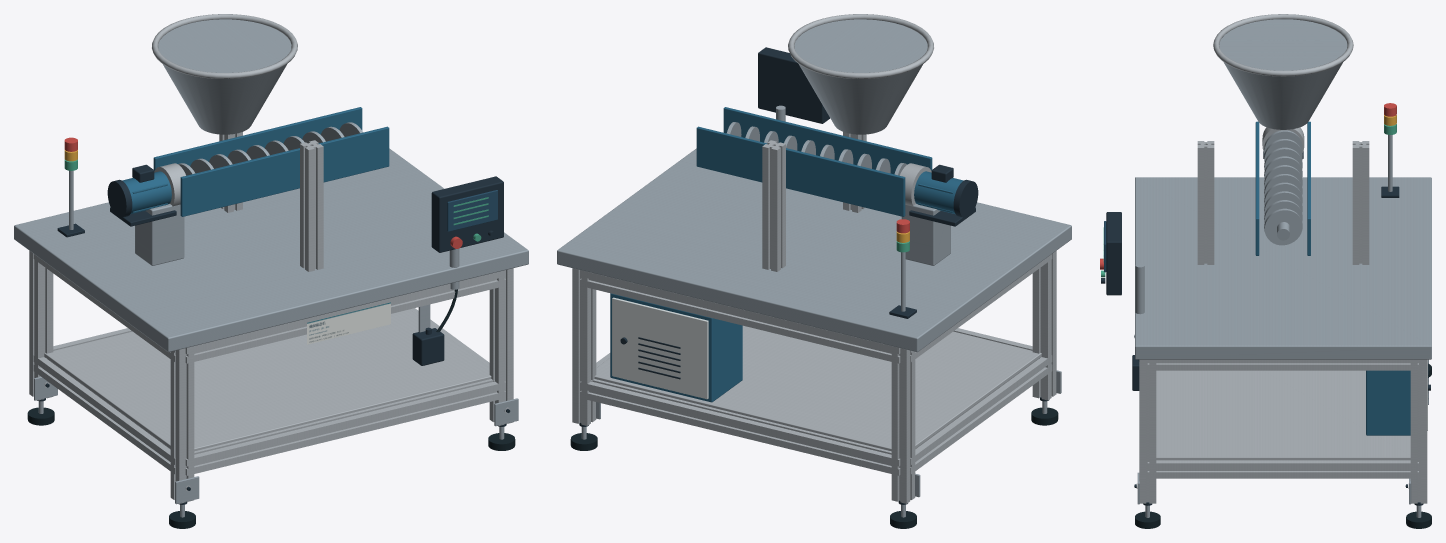
Rendered from screw-conveyor-cell.glb.
3 renders of one model, left to right at view 1: azimuth 30°, elevation 25°; view 2: azimuth 150°, elevation 25°; view 3: azimuth 270°, elevation 25°, orthographic. The views are drawn at different scales.
Parts seen in each view (by area): view 1: ClosedMachineBed_40, LowerShelf_41, FeedHopper_73, AugerTrough_87, SlottedExtrusion_34, SlottedExtrusion_35, SlottedExtrusion_11, SlottedExtrusion_36, AugerTrough_86, SlottedExtrusion_72, SlottedExtrusion_27, ConsoleBack_52 (+10 smaller); view 2: ClosedMachineBed_40, LowerShelf_41, FeedHopper_73, AugerTrough_86, BackDoor_43, SlottedExtrusion_32, SlottedExtrusion_33, AugerTrough_87, SlottedExtrusion_3, ConsoleBack_52, SlottedExtrusion_19, Cabinet_42 (+9 smaller); view 3: ClosedMachineBed_40, LowerShelf_41, FeedHopper_73, SlottedExtrusion_38, SlottedExtrusion_39, Cabinet_42, SlottedExtrusion_27, SlottedExtrusion_19, SlottedExtrusion_71, SlottedExtrusion_72, HopperLip_74, ConsoleBack_52 (+4 smaller).
Boxes of the visible parts, x1,y1,x2,y2 form: ClosedMachineBed_40: (14, 148, 528, 352); LowerShelf_41: (44, 309, 491, 451); FeedHopper_73: (158, 19, 291, 134); AugerTrough_87: (180, 126, 389, 216); SlottedExtrusion_34: (185, 379, 505, 475); SlottedExtrusion_35: (185, 270, 505, 363); SlottedExtrusion_11: (170, 346, 194, 503); SlottedExtrusion_36: (33, 355, 175, 474); AugerTrough_86: (153, 107, 362, 170); SlottedExtrusion_72: (300, 140, 323, 271); SlottedExtrusion_27: (489, 268, 513, 425); ConsoleBack_52: (431, 176, 503, 252); ClosedMachineBed_40: (557, 148, 1071, 352); LowerShelf_41: (594, 325, 1041, 451); FeedHopper_73: (794, 19, 927, 134); AugerTrough_86: (696, 126, 905, 216); BackDoor_43: (612, 297, 708, 399); SlottedExtrusion_32: (580, 379, 900, 475); SlottedExtrusion_33: (580, 270, 900, 363); AugerTrough_87: (723, 107, 932, 174); SlottedExtrusion_3: (891, 346, 915, 503); ConsoleBack_52: (758, 47, 829, 123); SlottedExtrusion_19: (572, 268, 596, 425); Cabinet_42: (610, 293, 742, 402); ClosedMachineBed_40: (1135, 177, 1431, 359); LowerShelf_41: (1156, 370, 1410, 460); FeedHopper_73: (1219, 19, 1347, 129); SlottedExtrusion_38: (1147, 460, 1418, 478); SlottedExtrusion_39: (1147, 359, 1418, 370); Cabinet_42: (1366, 370, 1410, 435); SlottedExtrusion_27: (1139, 359, 1156, 503); SlottedExtrusion_19: (1410, 359, 1427, 503); SlottedExtrusion_71: (1352, 141, 1369, 264); SlottedExtrusion_72: (1197, 141, 1214, 264); HopperLip_74: (1213, 14, 1353, 76); ConsoleBack_52: (1106, 212, 1121, 295).
Bounding box in the file's own units: 1.55 × 1.64 × 1.29.
Materials: 11 (3 with a texture image).
